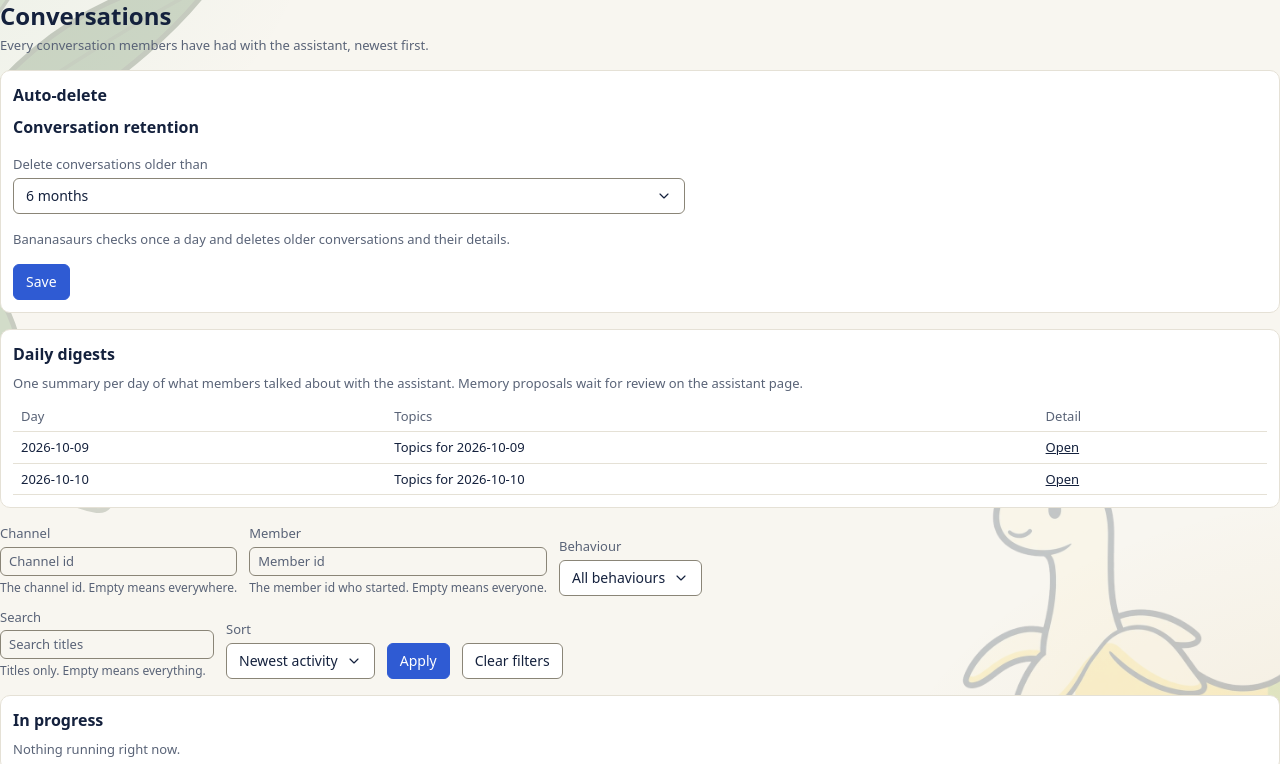
Test case: clears the previous detail and ignores a late response for another day
The image size is (1280, 764).
Step 1. Click the button "Open" in the row of "Topics for 2026-10-09" → coordinates (1062, 448), box top-left (1046, 438), bottom-right (1079, 457)
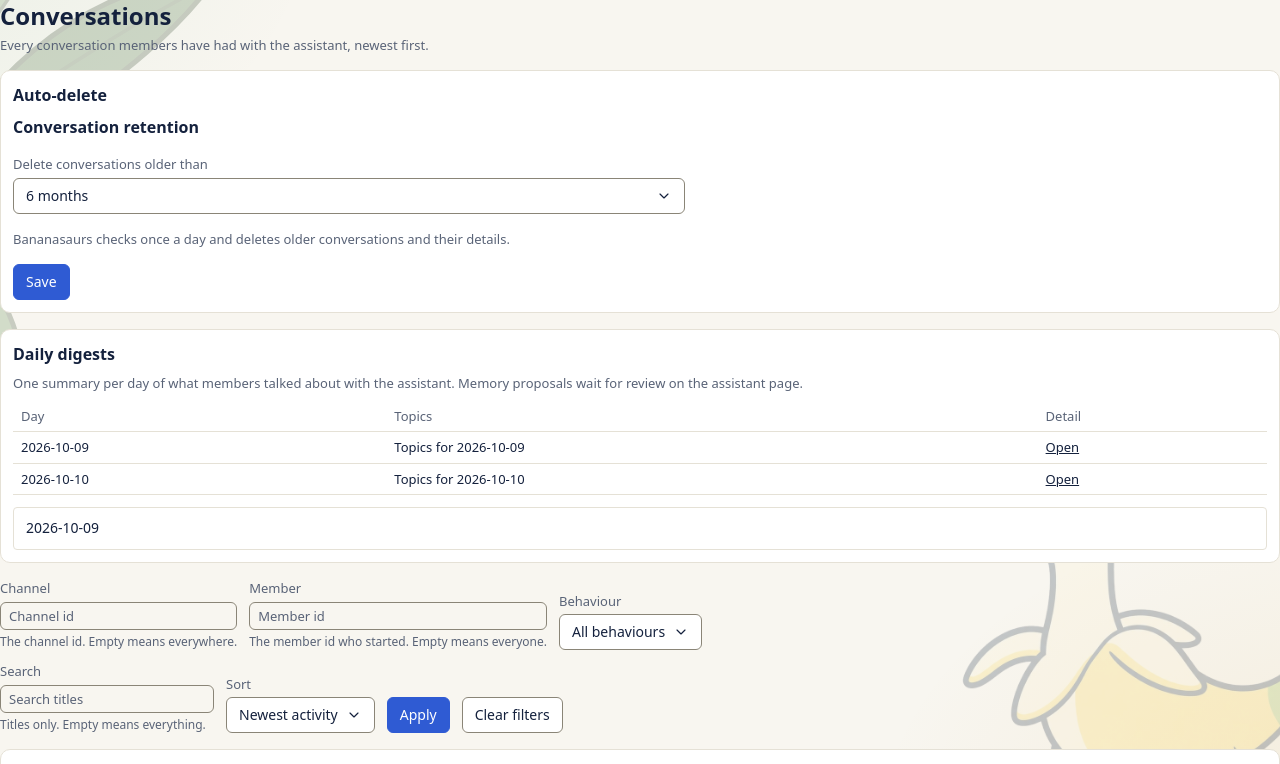
Step 2. Click the button "Open" in the row of "Topics for 2026-10-10" → coordinates (1062, 479), box top-left (1046, 470), bottom-right (1079, 488)
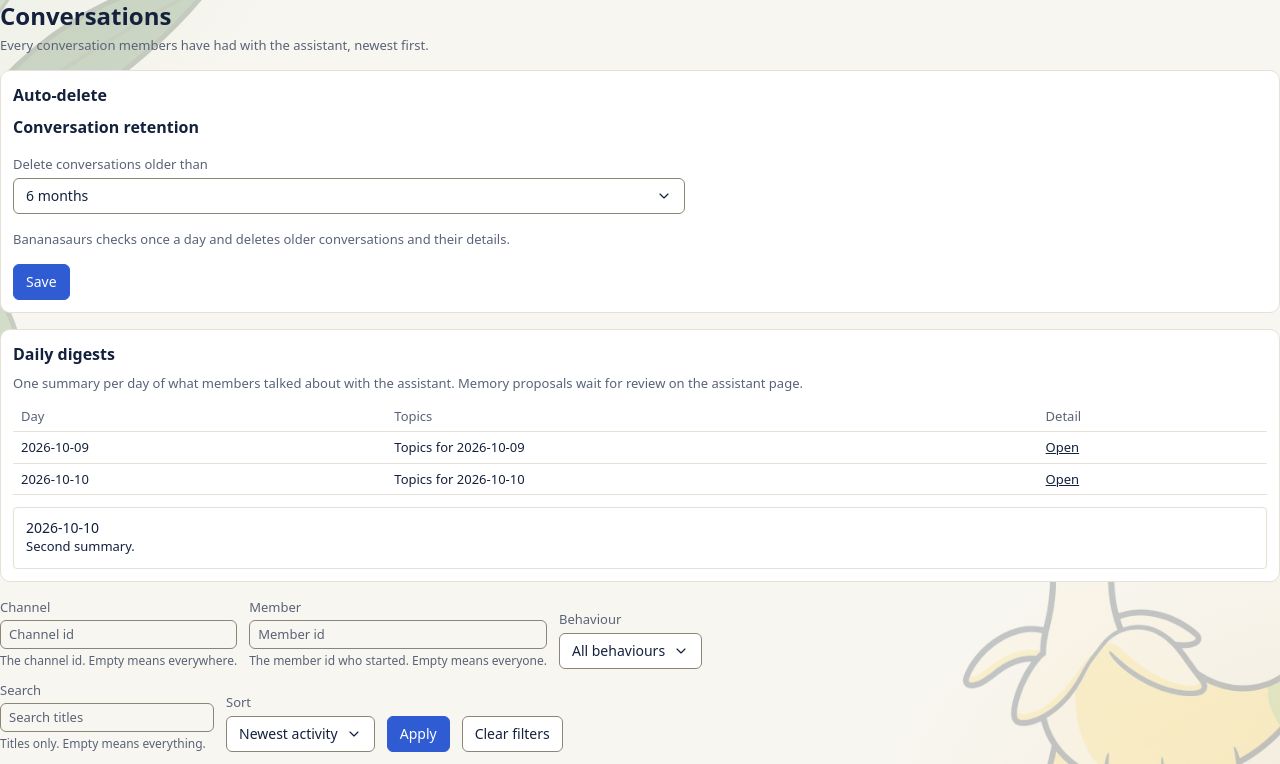
Now the text "Second summary." is shown, box top-left (26, 537), bottom-right (135, 555)
